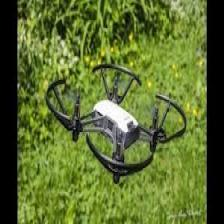drone: (46, 62, 187, 178)
